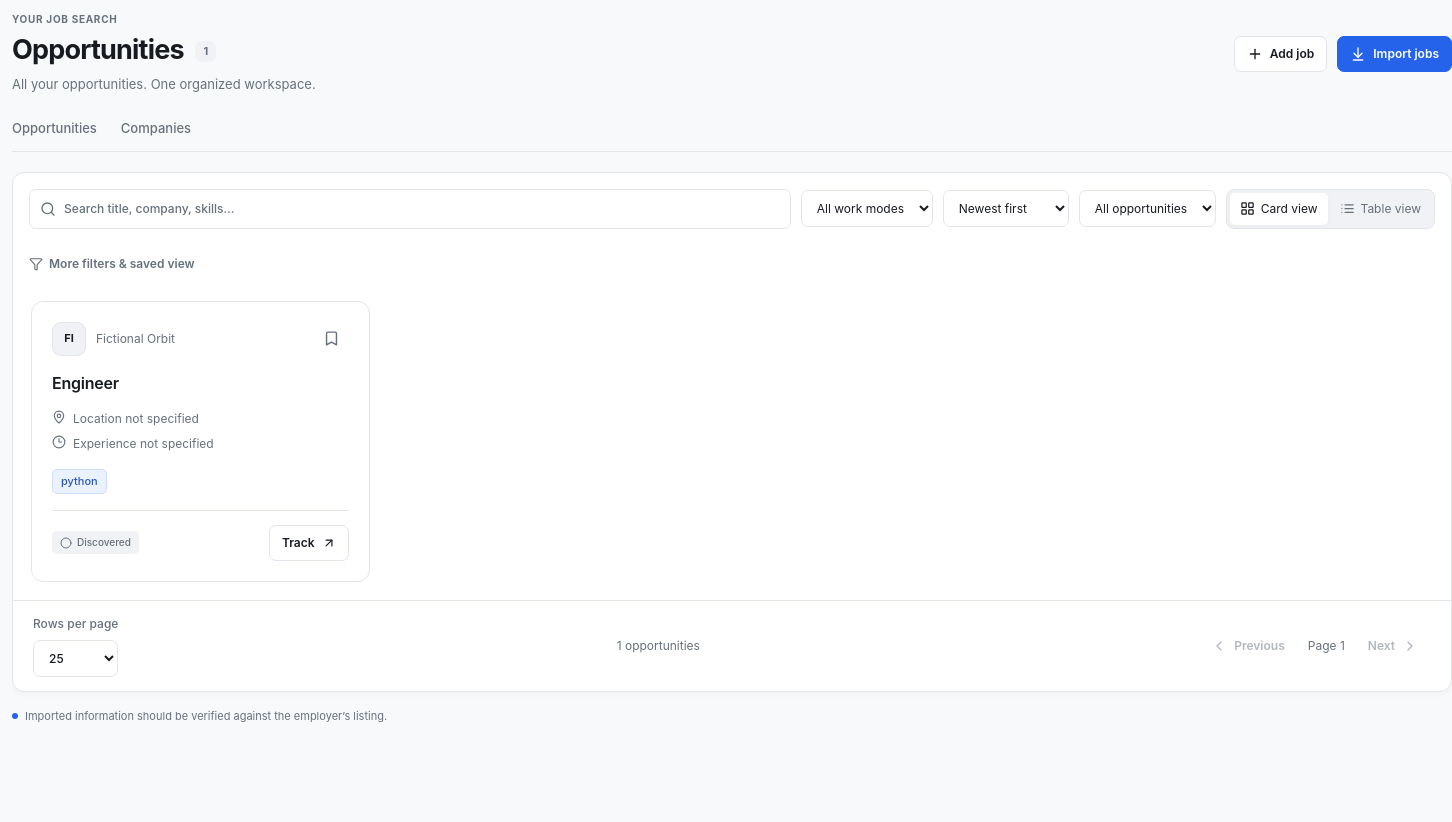
Test: Job management › renders actual API jobs and keeps descriptions as text
Expected: the text "Fictional Orbit" is shown, left=96, top=331, right=175, bottom=346
Click the button "Table view" at point(1380, 209), box left=1330, top=193, right=1431, bottom=225
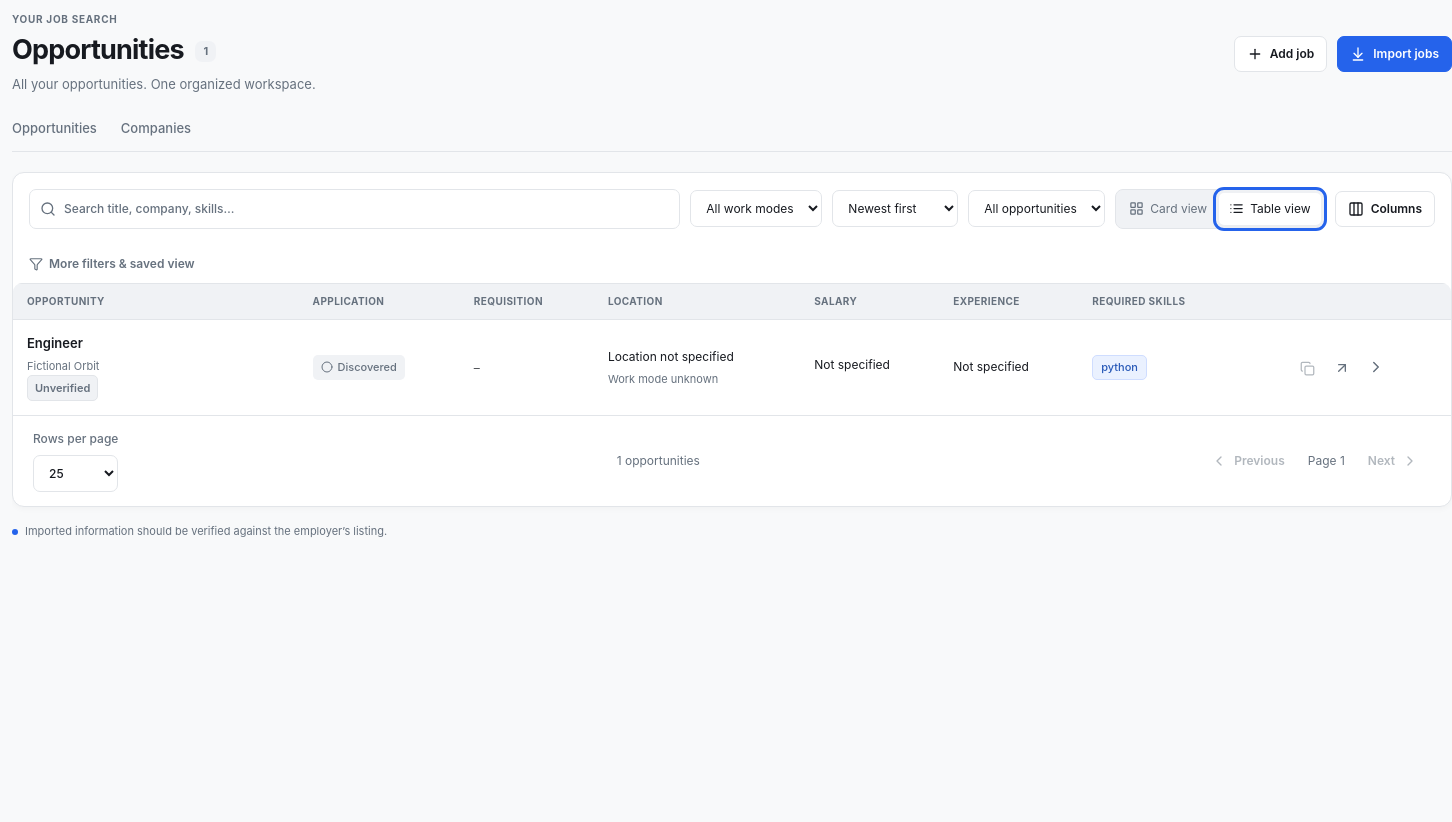
Expected: the table shows "python", left=1101, top=360, right=1138, bottom=374
Expected: the table shows "Not specified", left=814, top=357, right=890, bottom=372
